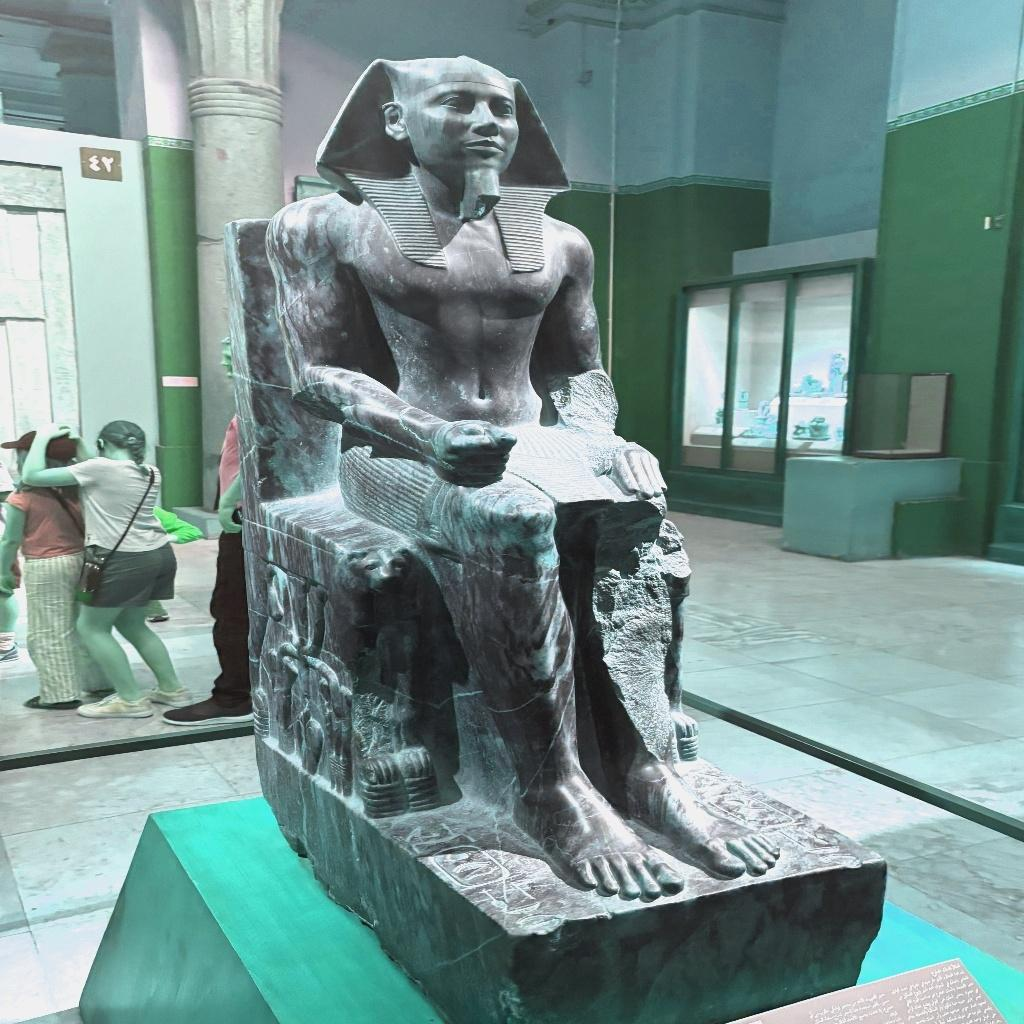Statue of Khafre: (250, 58, 786, 902)
